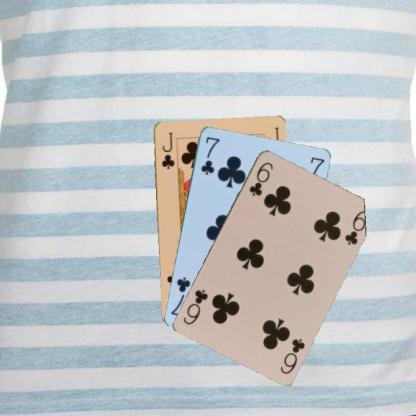6c: (277, 335, 306, 375), (246, 159, 275, 197)
7c: (198, 134, 221, 176)
Jc: (159, 130, 176, 170)
